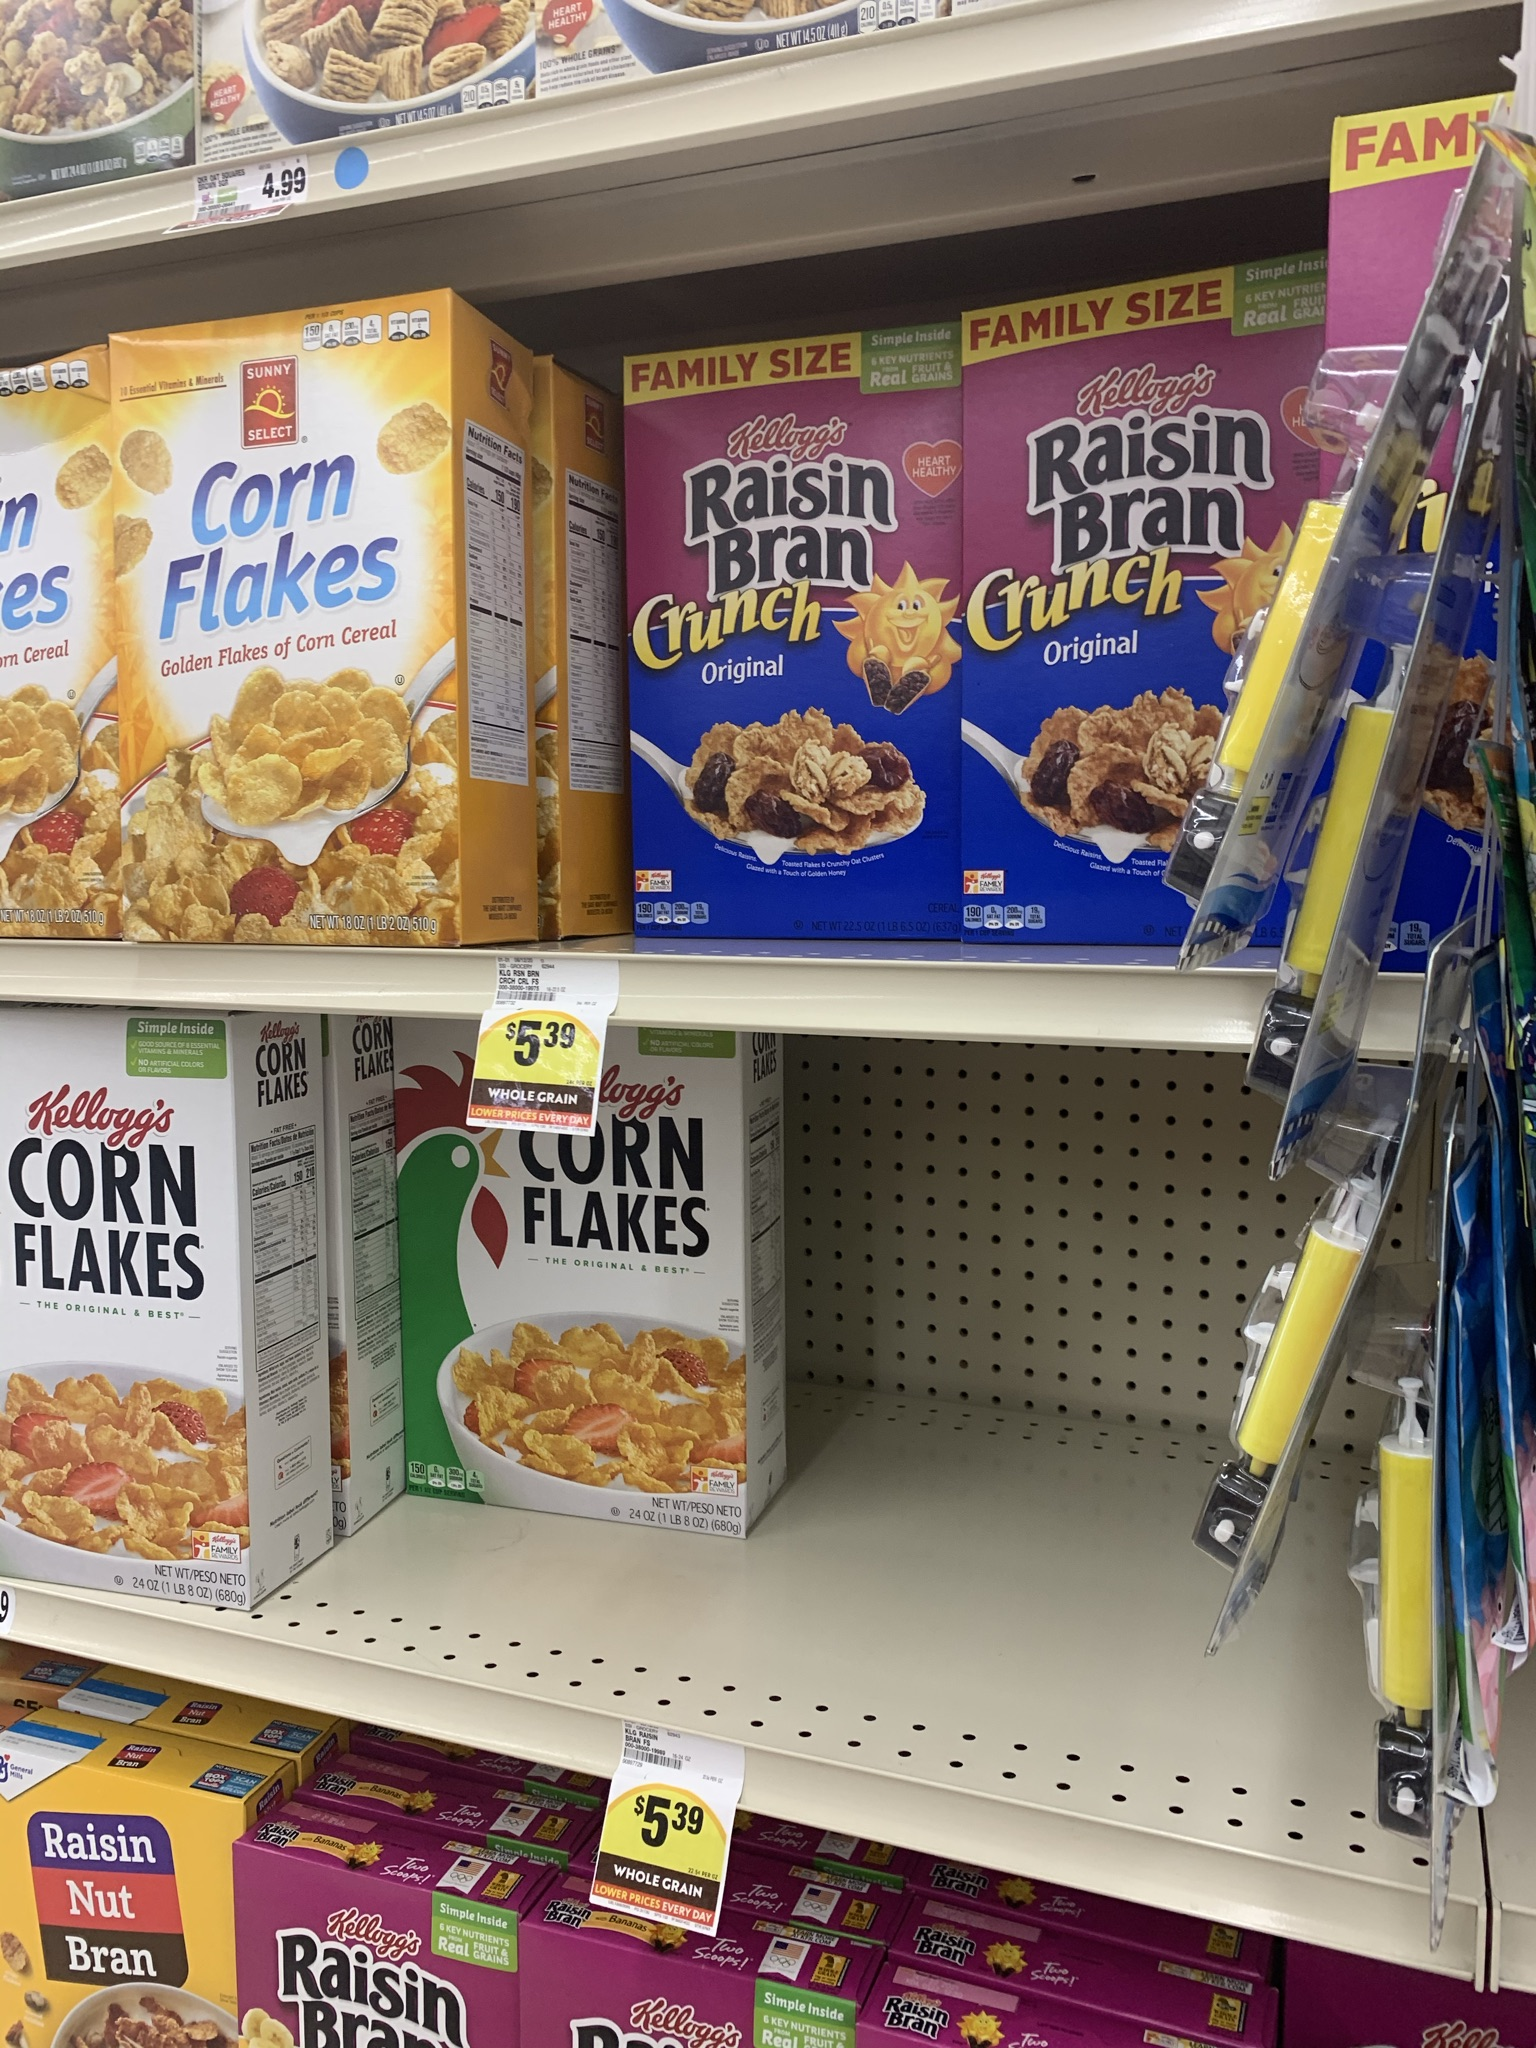box: (127, 306, 455, 935), (641, 368, 949, 932), (2, 1026, 234, 1585), (415, 1134, 745, 1506), (976, 331, 1179, 935)
